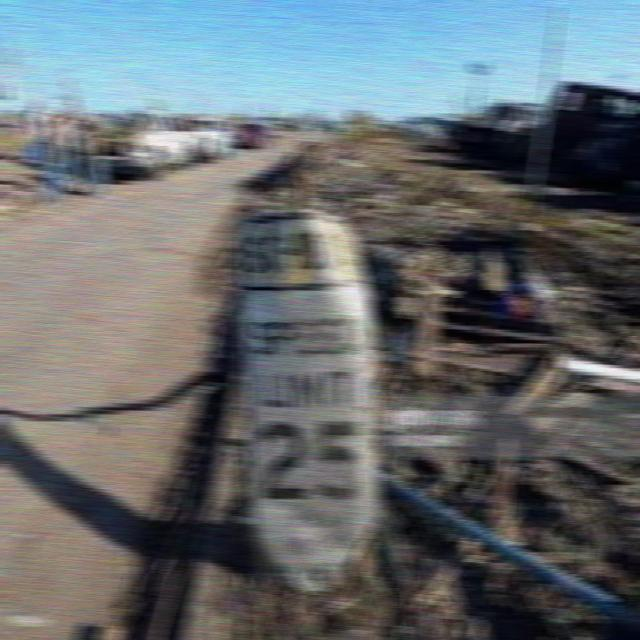speedLimit25: (240, 271, 382, 528)
